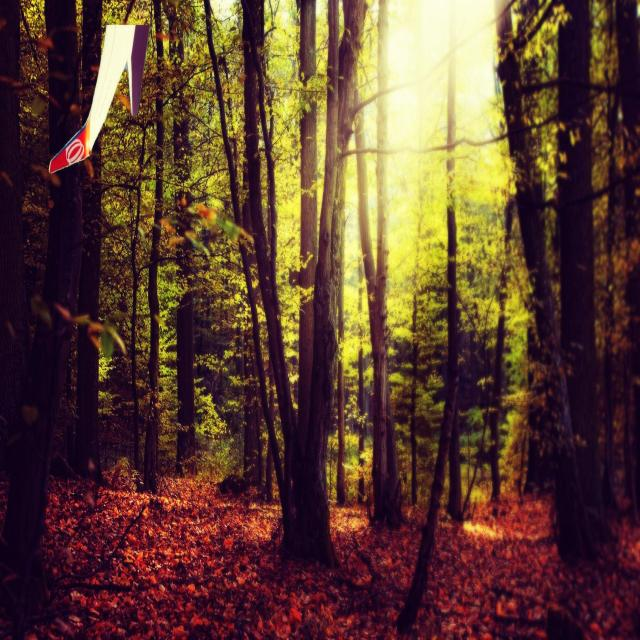airplane: (48, 22, 150, 175)
